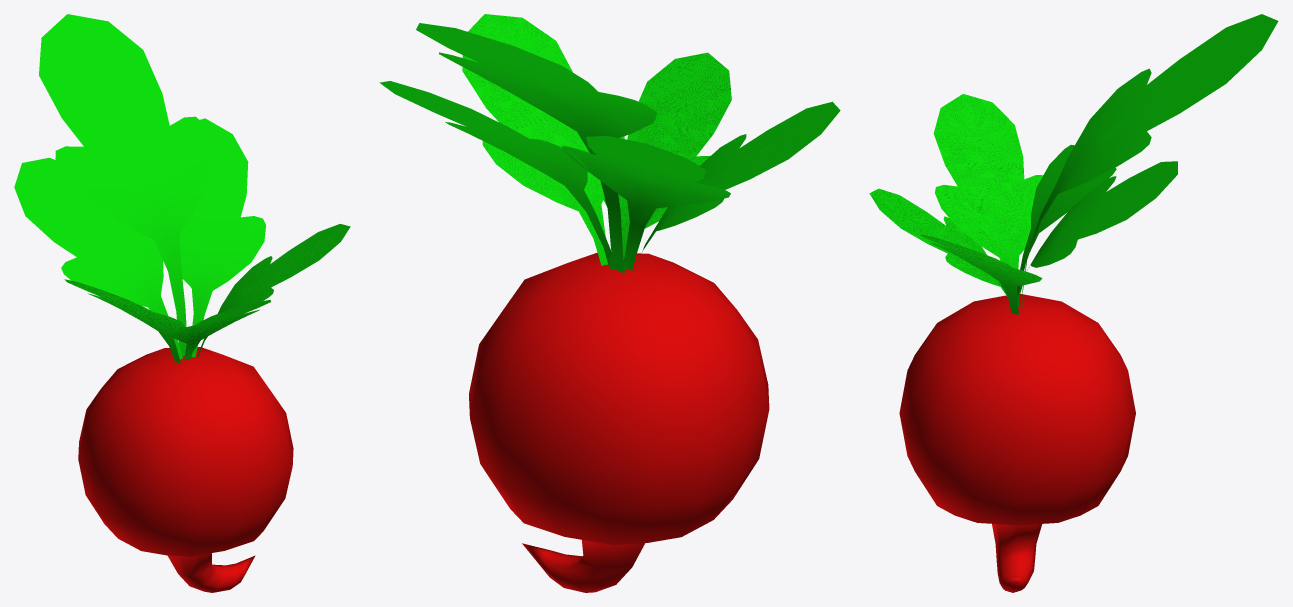
File: Radish_Product.fbx
3 renders of one model, left to right at view 1: azimuth 30°, elevation 25°; view 2: azimuth 150°, elevation 25°; view 3: azimuth 270°, elevation 25°, orthographic. The views are drawn at different scales.
Parts seen in each view (by area): view 1: BSTC_Radish_Product; view 2: BSTC_Radish_Product; view 3: BSTC_Radish_Product.
Part boxes in pixels (left/top/right/bottom): BSTC_Radish_Product: left=14, top=14, right=350, bottom=592; BSTC_Radish_Product: left=379, top=14, right=840, bottom=592; BSTC_Radish_Product: left=869, top=14, right=1278, bottom=592.
Bounding box in the file's own units: 33.49 × 59.51 × 40.12.
